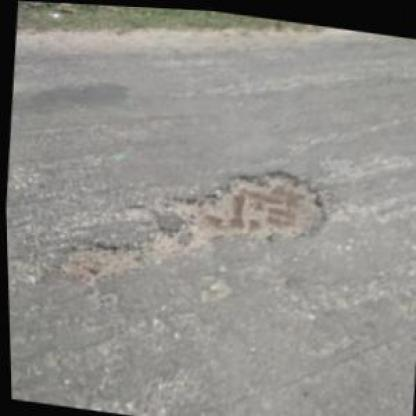pothole: (143, 146, 334, 280), (51, 229, 147, 292)
